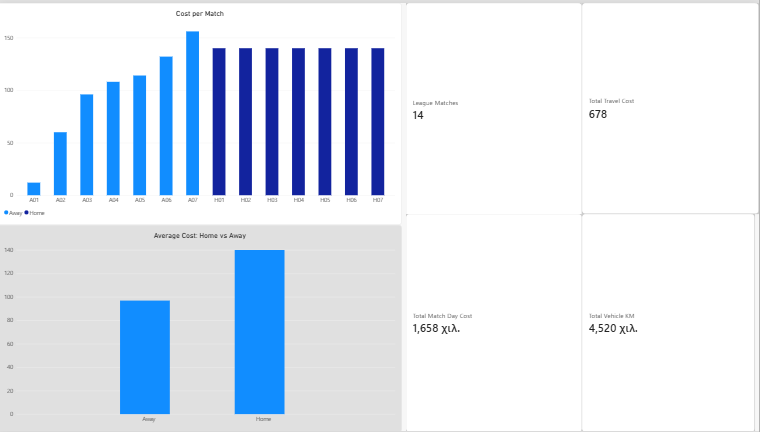

The page's visual inventory and layout, read from the dashboard file:
{"tool":"powerbi","page":{"name":"Matches","canvas":[1920,1080],"ordinal":3},"visuals":[{"type":"cardVisual","fields":{"Data":["_Measures.Total Match Day Cost"]},"box":[500,30,450,190],"z":1},{"type":"cardVisual","fields":{"Data":["_Measures.Total Vehicle KM"]},"box":[1440,30,450,190],"z":2},{"type":"clusteredColumnChart","title":"Average Cost: Home vs Away","fields":{"Category":["tbl_Match_Costs.Home_Away"],"Y":["_Measures.Avg Match Day Cost"]},"box":[1150,240,740,810],"z":3},{"type":"cardVisual","fields":{"Data":["_Measures.League Matches"]},"box":[30,30,450,190],"z":4},{"type":"cardVisual","fields":{"Data":["_Measures.Total Travel Cost"]},"box":[970,30,450,190],"z":5},{"type":"columnChart","title":"Cost per Match","fields":{"Category":["tbl_Match_Costs.Match_ID"],"Series":["tbl_Match_Costs.Home_Away"],"Y":["_Measures.Total Match Day Cost"]},"box":[30,240,1100,810],"z":6}]}

Visuals, with their boxes in screenshot pixels (x1, y1, x2, y2), scaled from the page's 1920x1080 canvas onto the 760x432 screenshot:
cardVisual - _Measures.Total Match Day Cost: <box>198,12,376,88</box>
cardVisual - _Measures.Total Vehicle KM: <box>570,12,748,88</box>
"Average Cost: Home vs Away" clusteredColumnChart: <box>455,96,748,420</box>
cardVisual - _Measures.League Matches: <box>12,12,190,88</box>
cardVisual - _Measures.Total Travel Cost: <box>384,12,562,88</box>
"Cost per Match" columnChart: <box>12,96,447,420</box>
